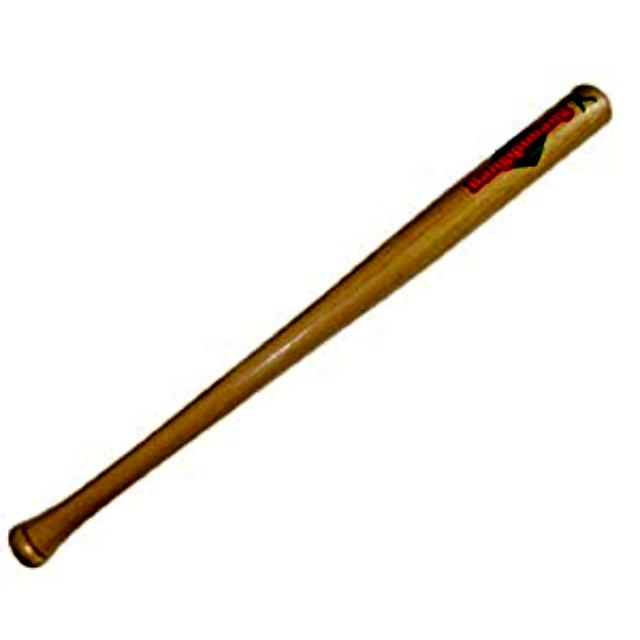baseball bat: (1, 42, 621, 600)
